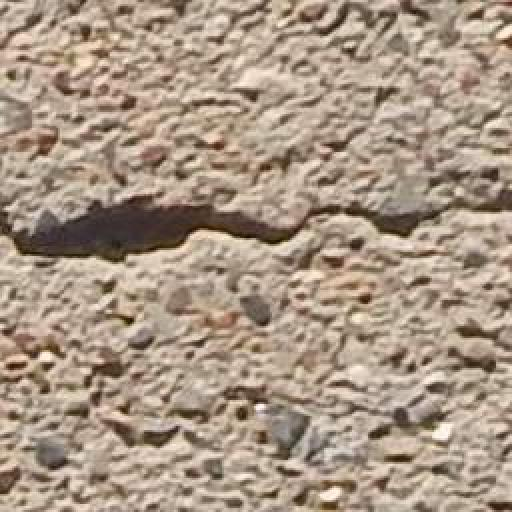spalling: (1, 184, 511, 274)
